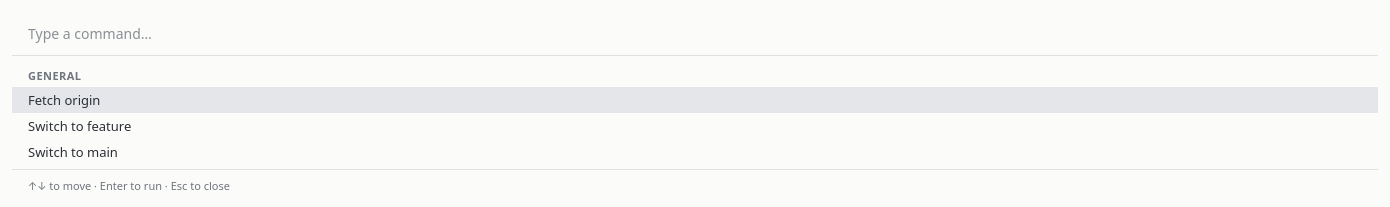
Test: CommandPalette › shows an empty-state message when nothing matches
Step 1. Type "zzz-no-match" into the dropdown → (695, 34), box [12, 12, 1378, 56]
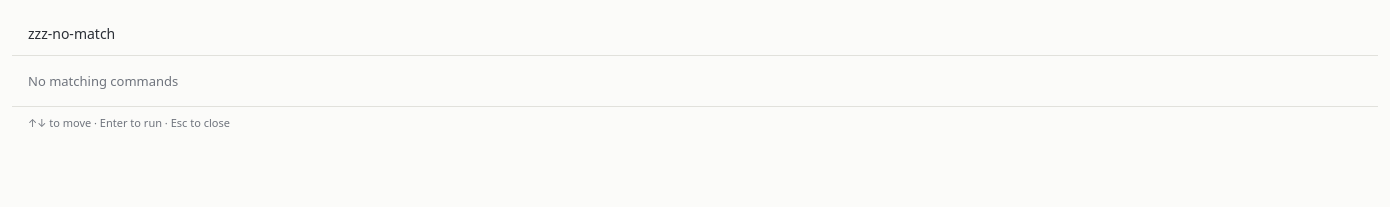
Now the list item "No matching commands" is shown, box [28, 72, 178, 90]
